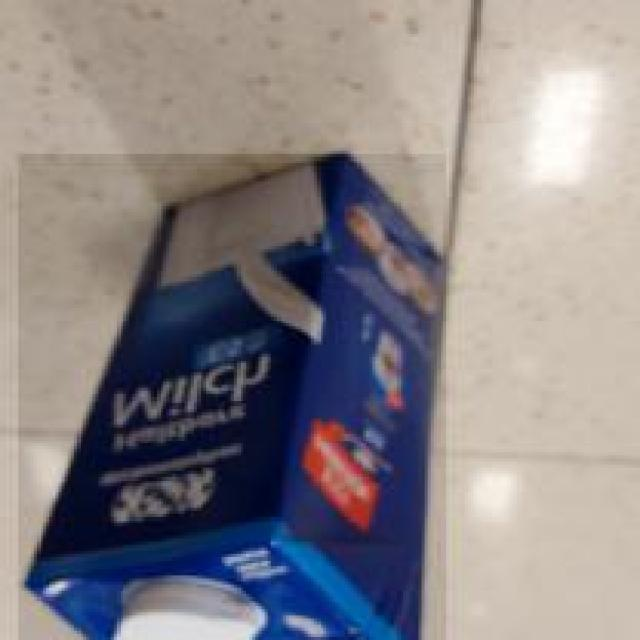milk: (19, 151, 446, 640)
